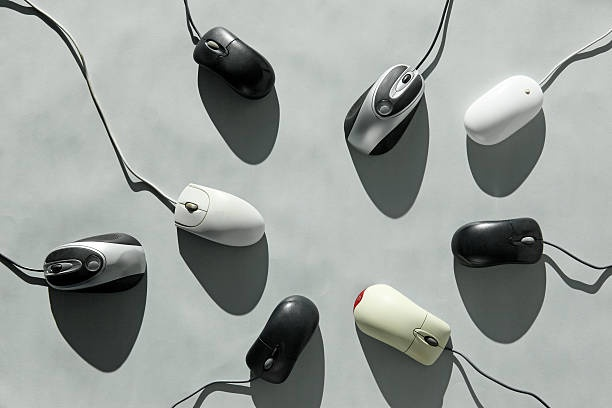mouse: (350, 282, 452, 367), (341, 63, 426, 157), (244, 294, 321, 385), (40, 231, 147, 294), (169, 180, 266, 247), (191, 25, 275, 102), (462, 73, 545, 149), (451, 216, 545, 270)
